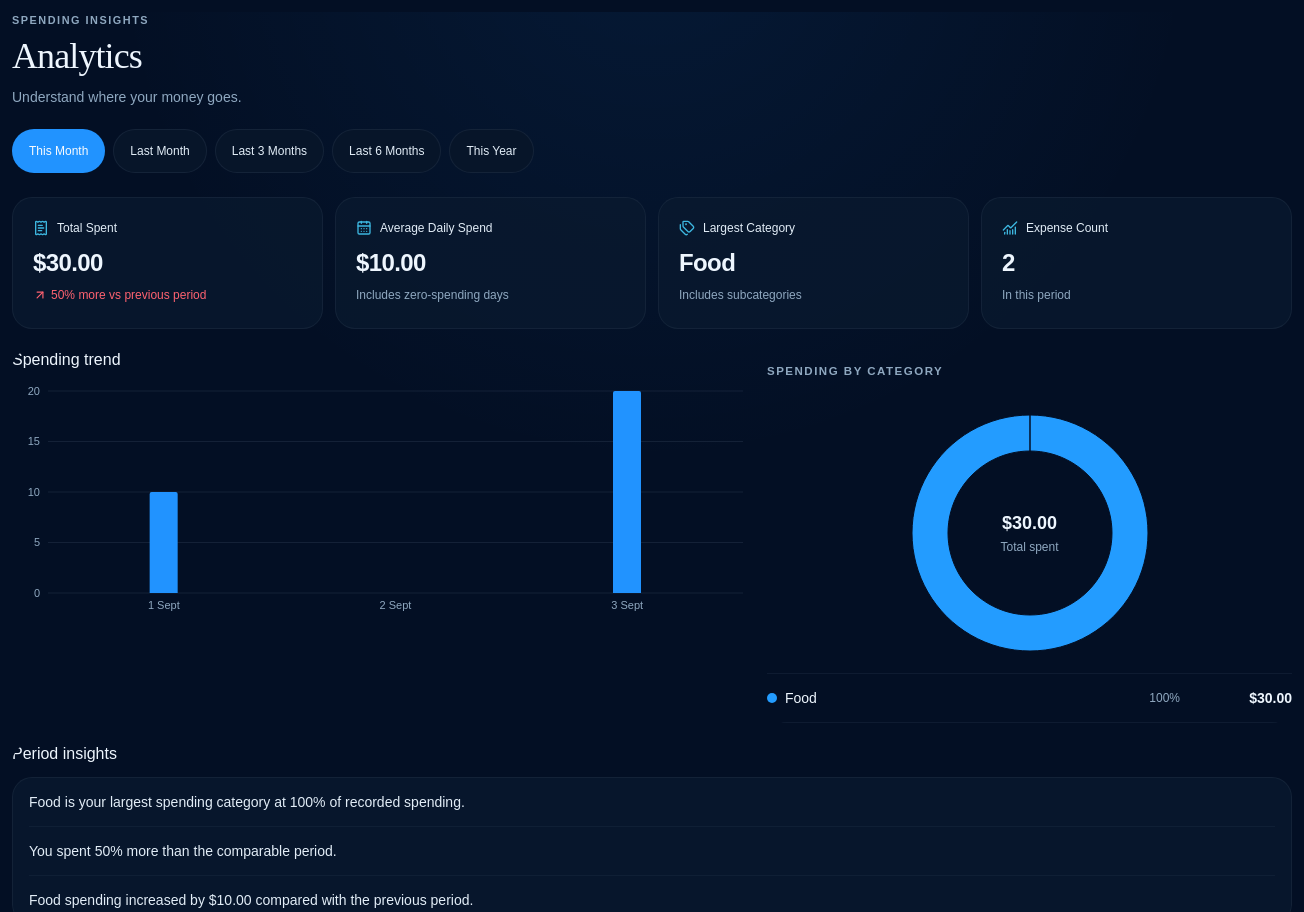
Test case: Analytics presentation › renders the returned metrics and keeps category details accessible as text
The width and height of the screenshot is (1304, 912).
expect the heading "Analytics" is shown: met, box [12, 36, 142, 76]
expect the text "$30.00" below "Average Daily Spend" is shown: met, box [33, 249, 103, 276]
Click the button "Food 100% $30.00": point(801, 698) [767, 674, 1292, 722]
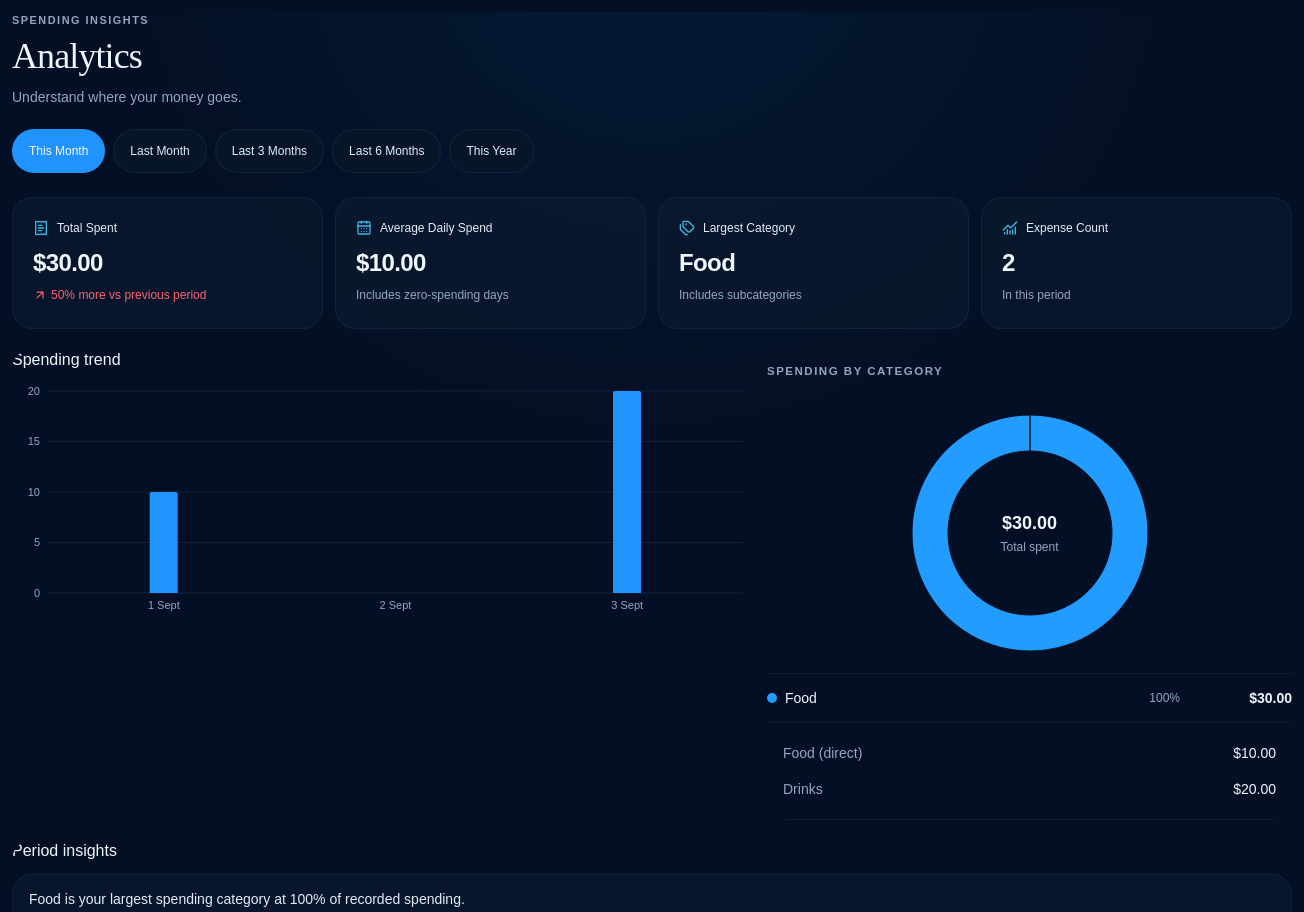
expect the text "Food (direct)" is shown: met, box [783, 743, 862, 763]
expect the text "Drinks" is shown: met, box [783, 779, 823, 799]
expect the text "$20.00" is shown: met, box [1233, 779, 1276, 799]
Click the button "Food 100% $30.00": point(801, 698) [767, 674, 1292, 722]
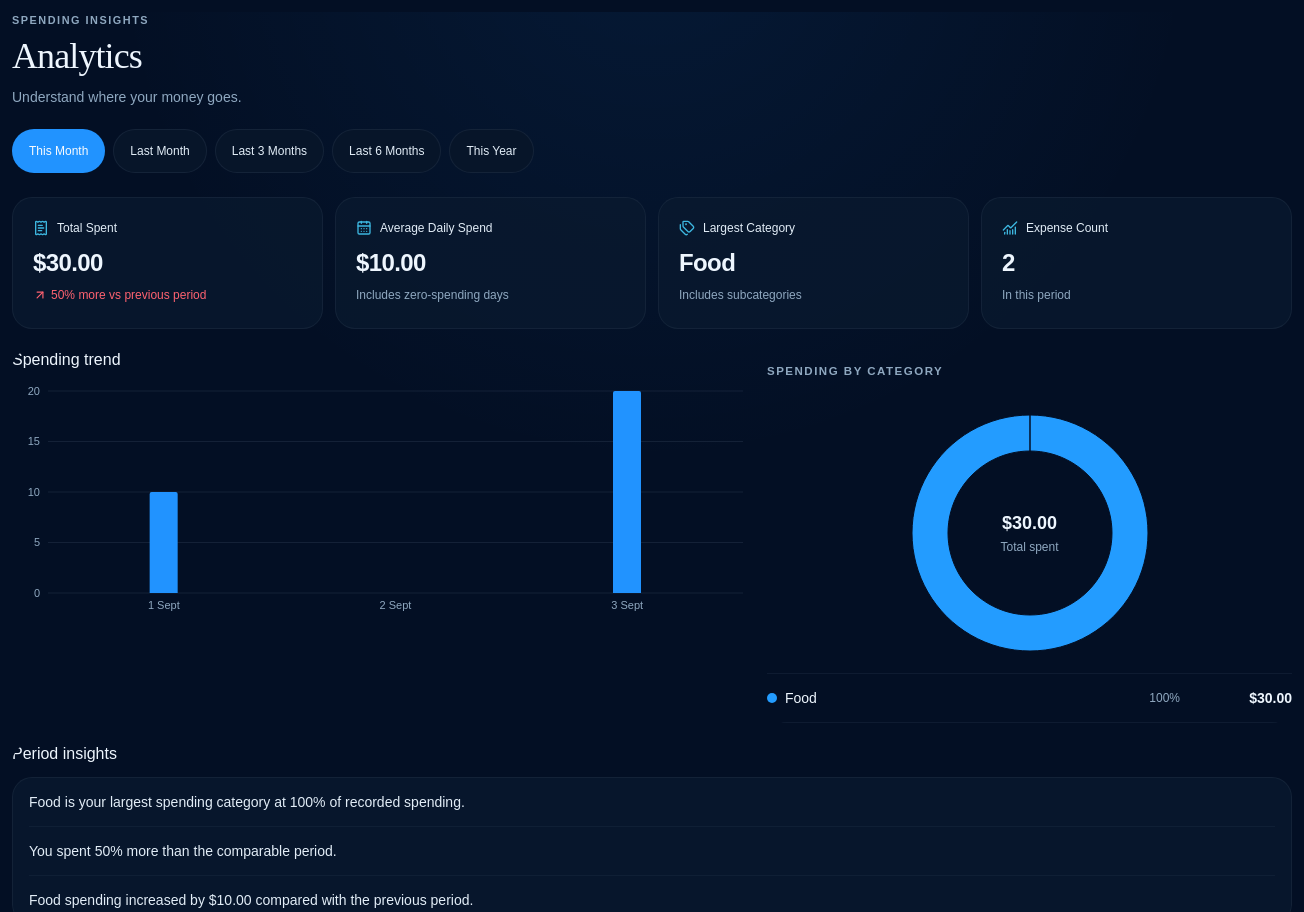
expect the text "Food (direct)" is gone: met
